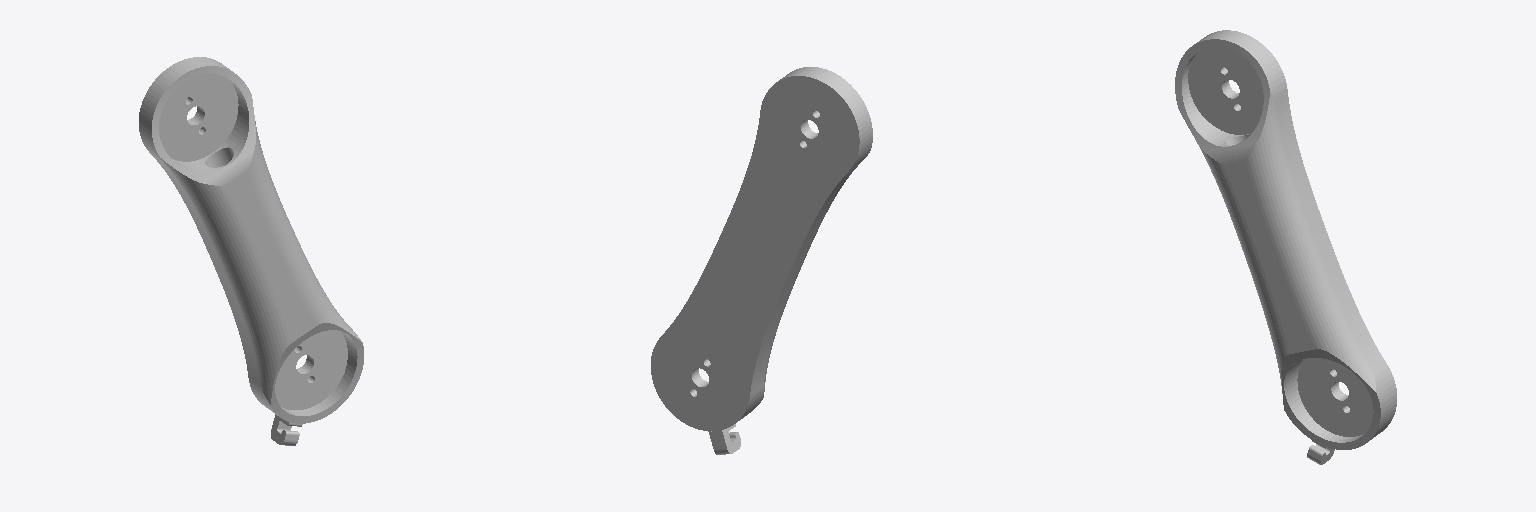
Rendered from arm_1.obj.
3 views of the same model, side by side, from view 1: azimuth 30°, elevation 25°; view 2: azimuth 150°, elevation 25°; view 3: azimuth 330°, elevation 25° (orthographic).
Visible parts, largest first — view 1: arm_01_arm_01.001; view 2: arm_01_arm_01.001; view 3: arm_01_arm_01.001.
Boxes of the visible parts, x1=… form: arm_01_arm_01.001: x1=139, y1=57, x2=363, y2=445; arm_01_arm_01.001: x1=651, y1=67, x2=872, y2=454; arm_01_arm_01.001: x1=1175, y1=30, x2=1396, y2=464.
Size of the model in its own units: 1.11 by 2.05 by 0.2379.